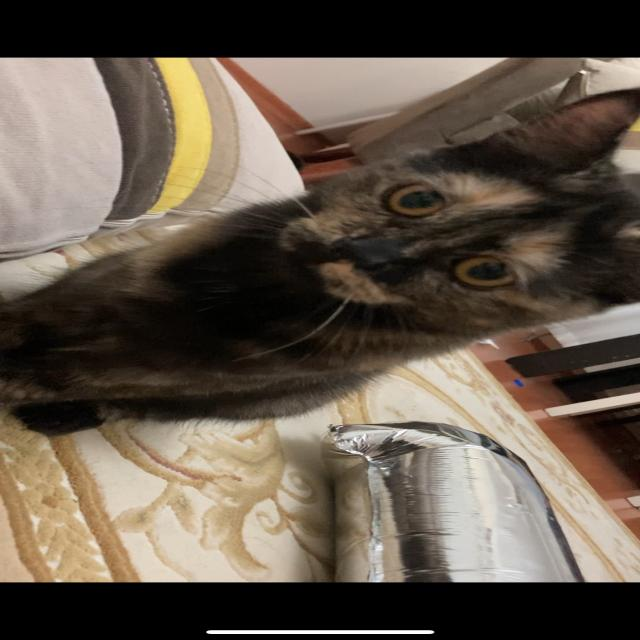authorized: (1, 85, 638, 438)
